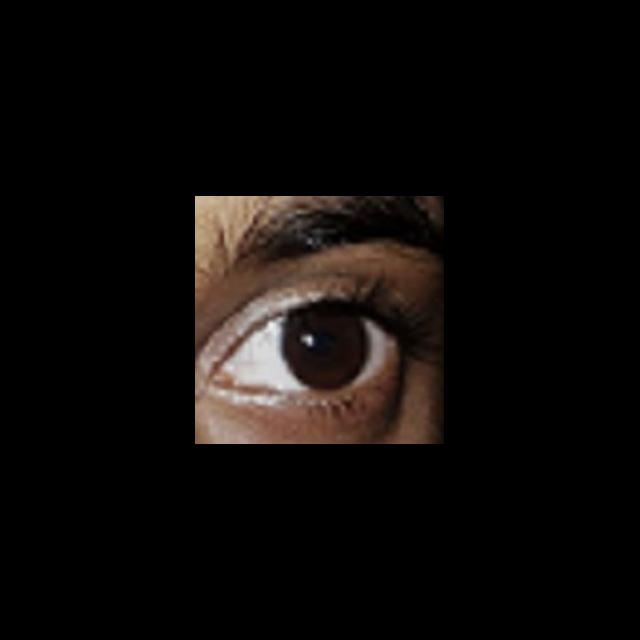eye: (225, 305, 389, 394)
iris: (284, 307, 373, 389)
